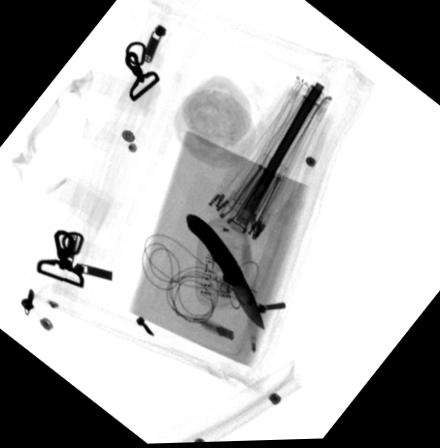Knife: (183, 213, 264, 332)
